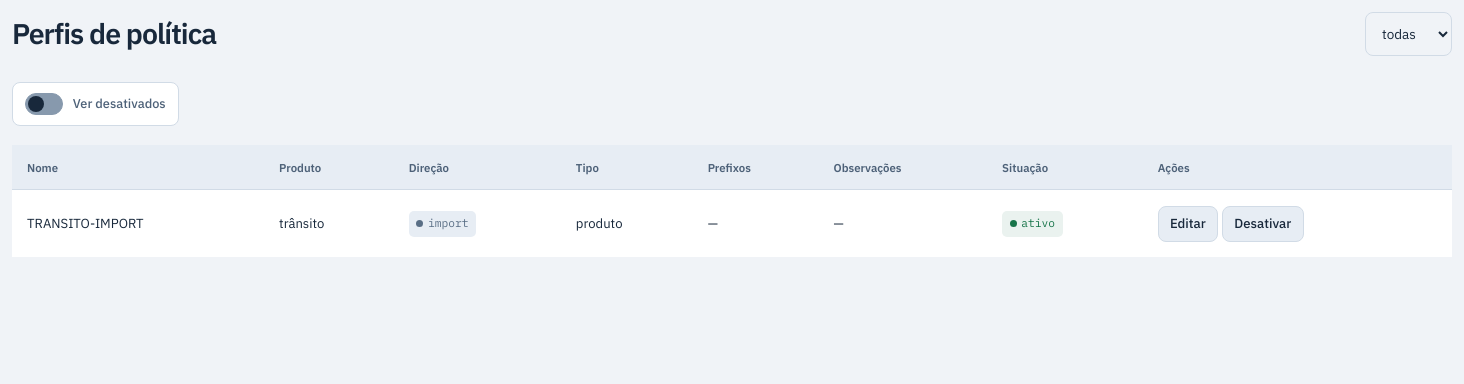
Test case: PolicyProfiles › ver desativados liga include_disabled e mostra o badge de inativo
Expected: the text "TRANSITO-IMPORT" is shown, x1=12 y1=190 x2=264 y2=257
Click the checkbox labelled "Ver desativados" at (44, 104), box x1=25 y1=93 x2=63 y2=115
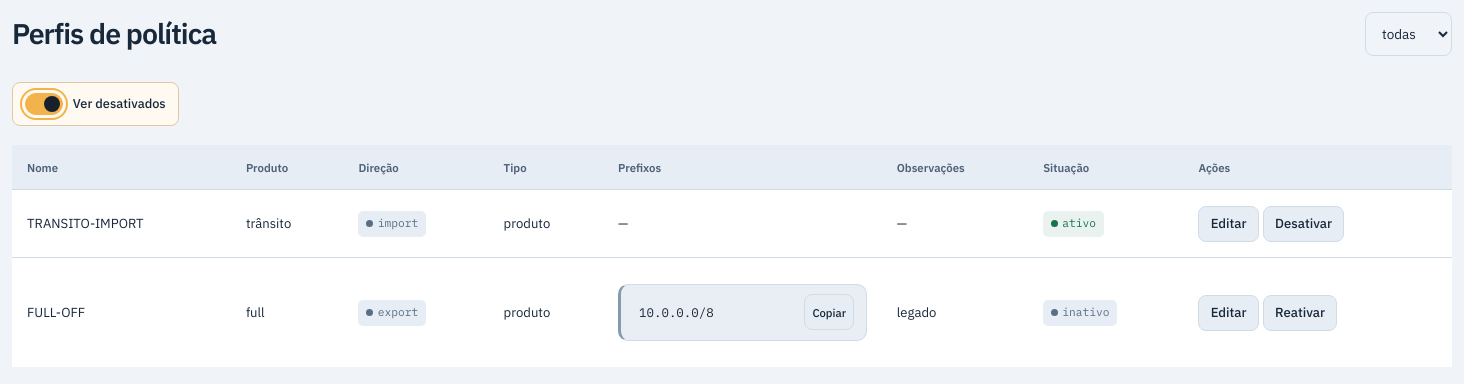
Now the text "FULL-OFF" is shown, box x1=12 y1=258 x2=231 y2=367
Now the text "inativo" is shown, box x1=1043 y1=300 x2=1117 y2=326
